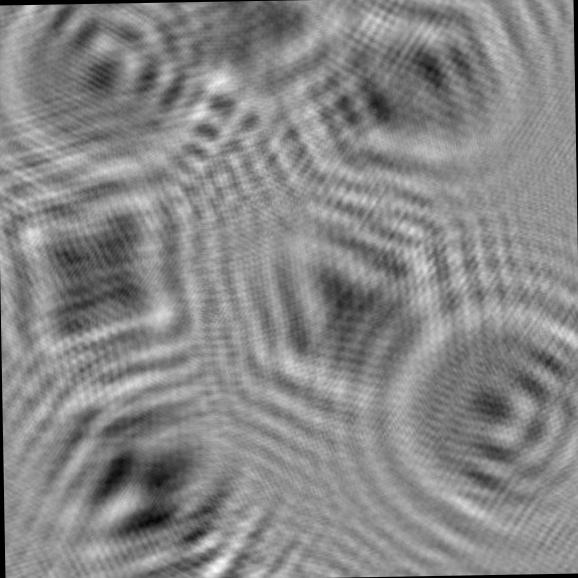U: (370, 276, 578, 554), (0, 1, 242, 200)
V: (217, 175, 470, 436)
W: (2, 381, 279, 578)
X: (0, 138, 226, 396)
Y: (149, 0, 382, 133)
Z: (284, 0, 549, 191)
